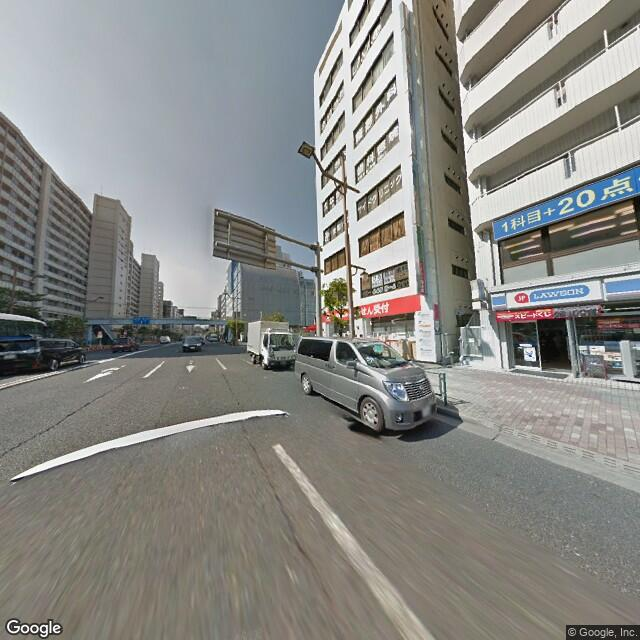lawson: (493, 269, 637, 312)
